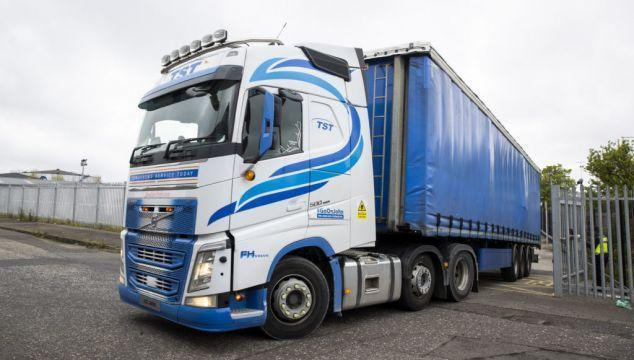truck: (117, 29, 542, 341)
